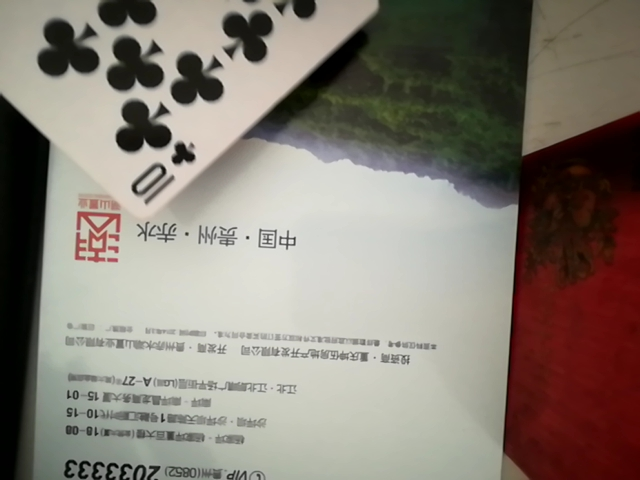mh 10: (6, 2, 388, 223)
